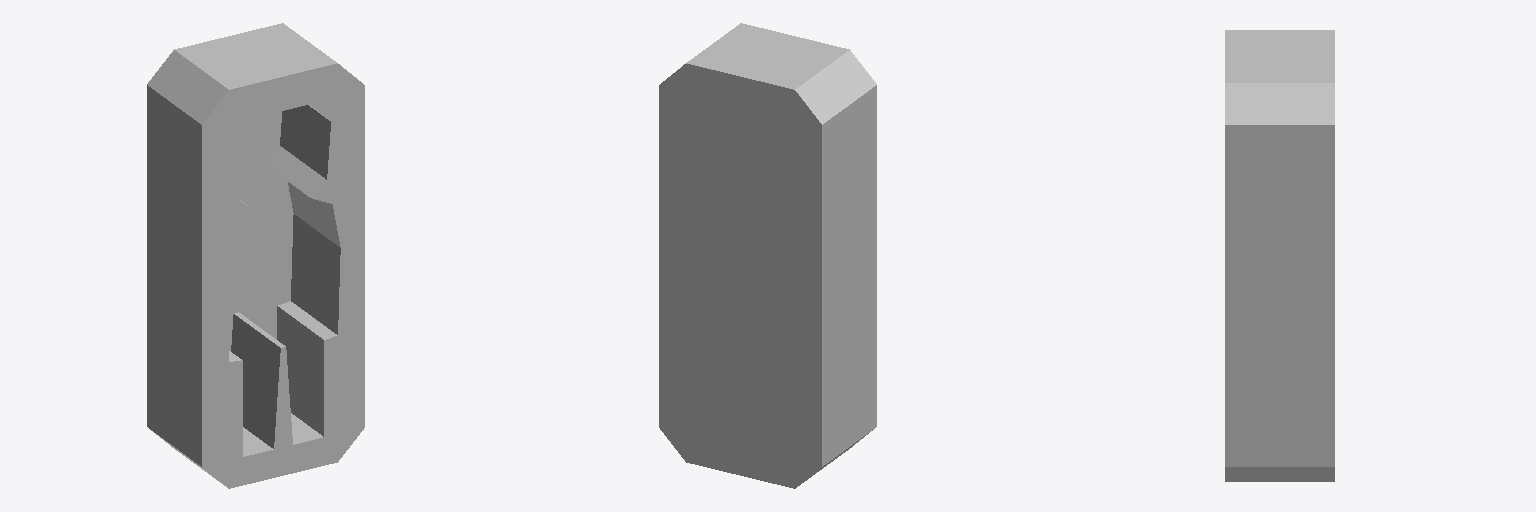
File: box_android.obj
The picture shows the model from 3 angles: view 1: azimuth 30°, elevation 25°; view 2: azimuth 150°, elevation 25°; view 3: azimuth 270°, elevation 25°; orthographic projection.
Parts seen in each view (by area): view 1: Box; view 2: Box; view 3: Box.
Part boxes in pixels (x1,y1,x2,y2): Box: (147, 23, 364, 488); Box: (659, 23, 876, 488); Box: (1225, 30, 1334, 481).
Size of the model in its own units: 1.2 by 2.8 by 0.7.